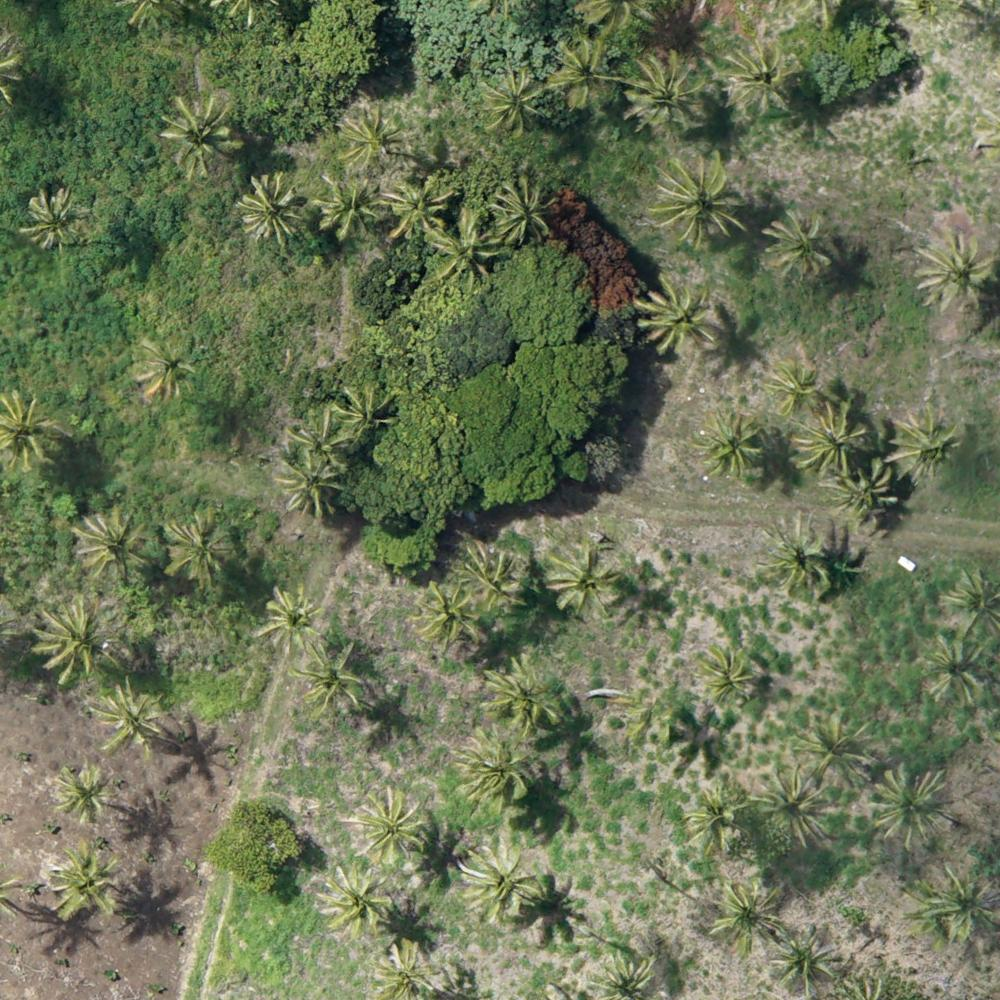Palm: (647, 155, 742, 240), (872, 762, 962, 845), (31, 596, 119, 679), (917, 863, 1000, 946), (637, 272, 718, 357), (915, 229, 996, 310), (161, 91, 239, 173), (71, 508, 158, 581), (757, 516, 836, 596), (457, 841, 538, 919), (430, 209, 508, 288), (759, 761, 836, 840), (793, 708, 872, 784), (1, 392, 70, 475), (691, 407, 766, 483), (271, 446, 349, 519), (347, 783, 420, 861), (792, 404, 873, 474), (629, 50, 704, 125), (89, 677, 164, 751), (461, 729, 531, 808), (297, 644, 372, 717), (548, 542, 625, 613), (45, 757, 124, 826), (406, 578, 486, 646), (891, 405, 969, 474), (479, 64, 551, 135), (167, 508, 234, 584), (47, 847, 120, 916), (332, 107, 407, 174), (920, 640, 991, 710), (715, 880, 785, 950), (485, 657, 557, 725), (488, 173, 556, 244), (831, 460, 903, 527), (380, 172, 450, 239), (129, 332, 199, 399), (683, 778, 751, 846), (728, 41, 797, 108), (761, 211, 834, 274), (937, 560, 1000, 633), (459, 542, 525, 611), (323, 866, 393, 931), (549, 39, 617, 105), (258, 580, 324, 647), (696, 643, 765, 707), (21, 183, 85, 251), (239, 174, 302, 241), (770, 926, 837, 989), (314, 176, 376, 243), (324, 379, 391, 441), (370, 940, 436, 1000), (764, 358, 825, 418)
